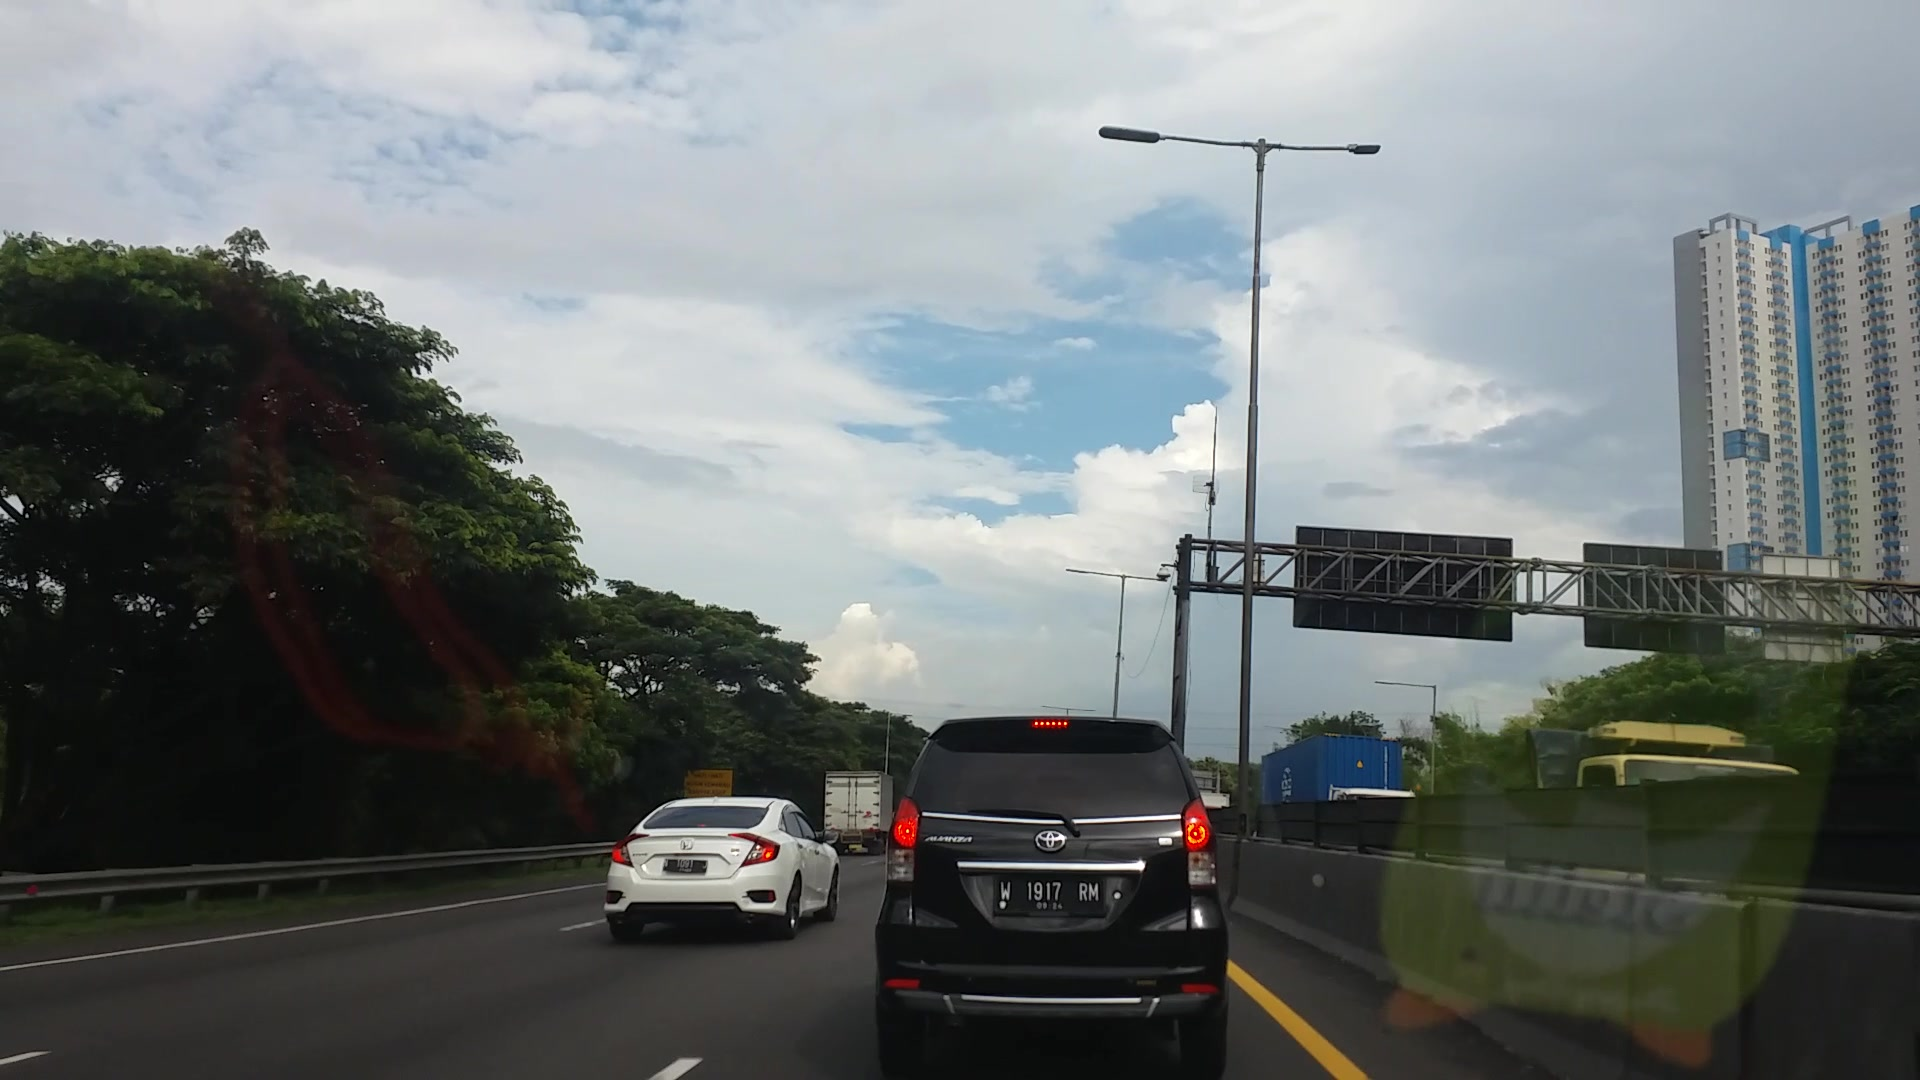plate_positive: (996, 877, 1101, 913)
